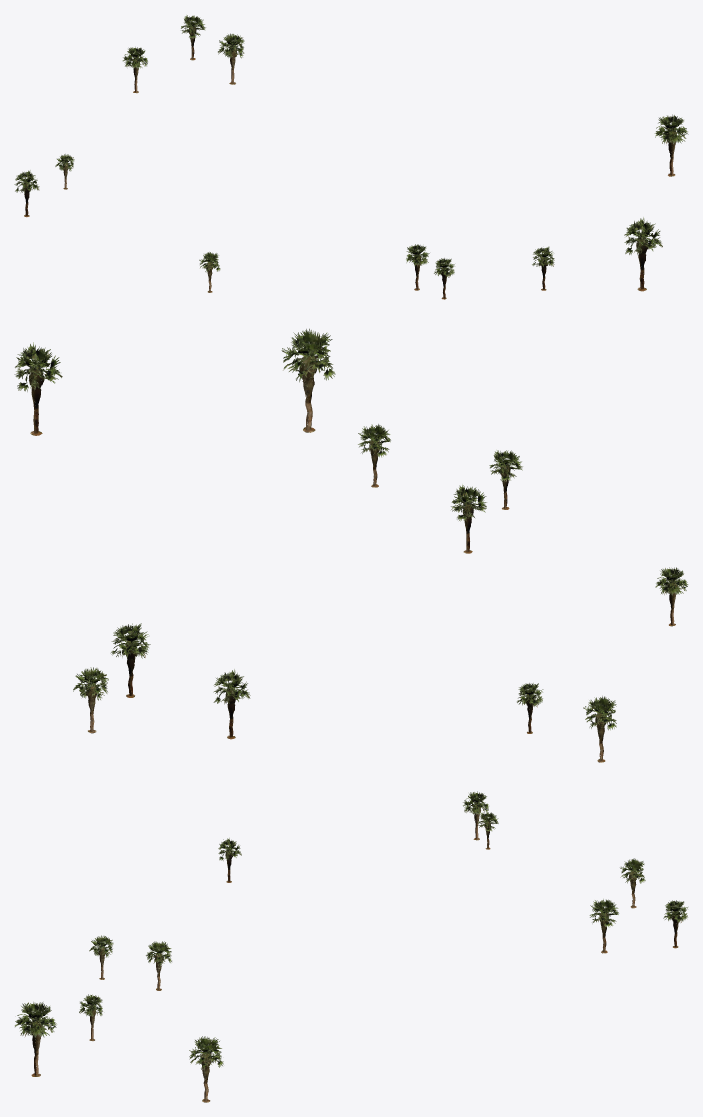
File: Palmera04.glb
The picture shows the model from 3 angles, top to bottom: view 1: azimuth 30°, elevation 25°; view 2: azimuth 150°, elevation 25°; view 3: azimuth 270°, elevation 25°; orthographic projection. The views are drawn at different scales.
Visible parts, largest first — view 1: temp_mesh.ply.831; view 2: temp_mesh.ply.831; view 3: temp_mesh.ply.831.
Boxes of the visible parts, <box> form: temp_mesh.ply.831: <box>14,14,688,299</box>; temp_mesh.ply.831: <box>14,328,688,762</box>; temp_mesh.ply.831: <box>15,791,687,1102</box>.
Bounding box in the file's own units: 109 × 18.31 × 110.
Materials: 1 (1 with a texture image).
